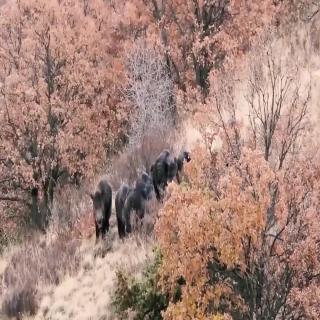Pig: (90, 154, 120, 248), (128, 169, 152, 233), (157, 146, 189, 180)
